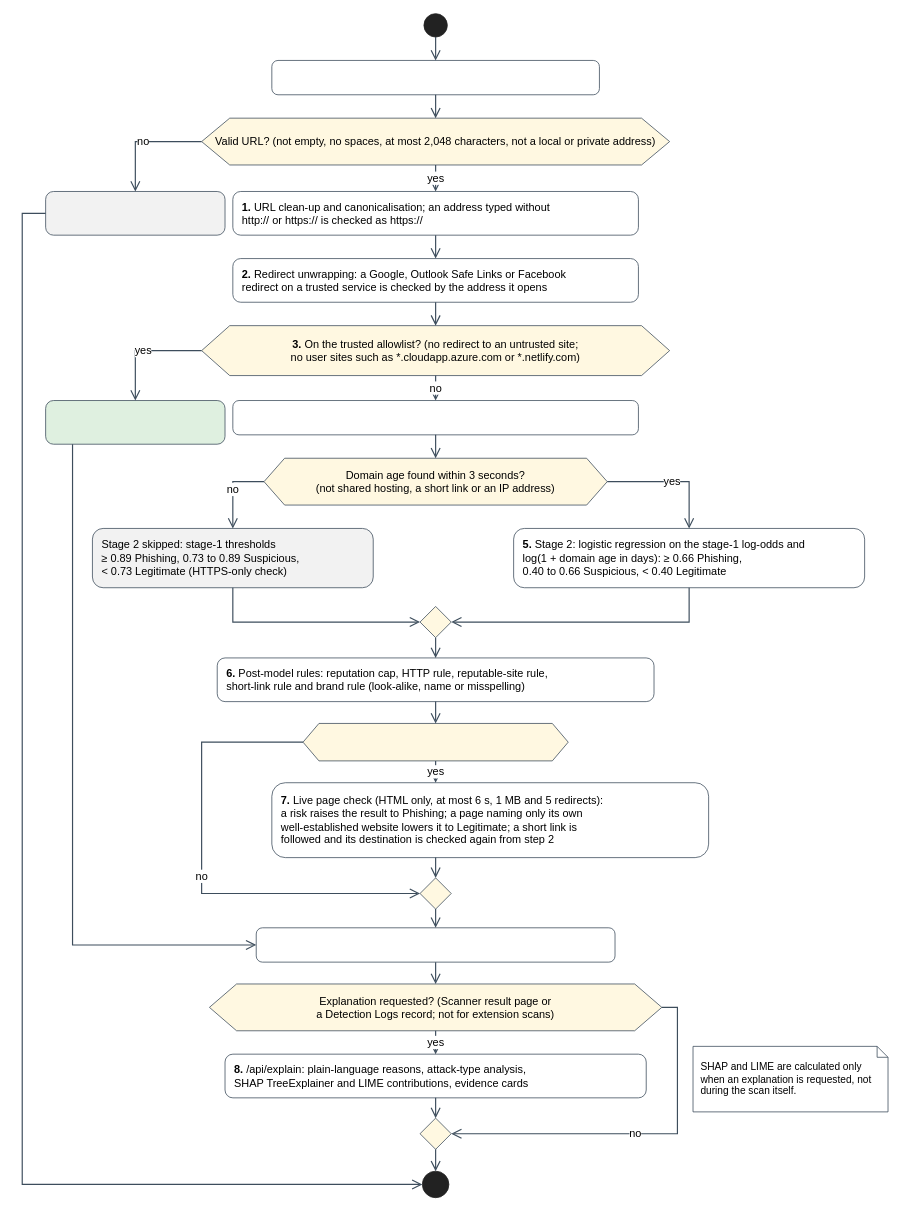
Image size: 902x1211. Some labels were removed from this diagram. Here are the shapes that lost their labels. From the top down, the centre of each, then its label:
At [435,77]: "URL submitted (Scanner page or browser extension)".
At [135,213]: "Validation message shown; no scan is made".
At [135,422]: "Trusted Website (model not used)".
At [435,417]: "4. Stage 1: Random Forest gives P(phishing) from 22 URL features".
At [435,742]: "Result still Suspicious?".
At [435,944]: "Save the detection and show the verdict with its reasons".
